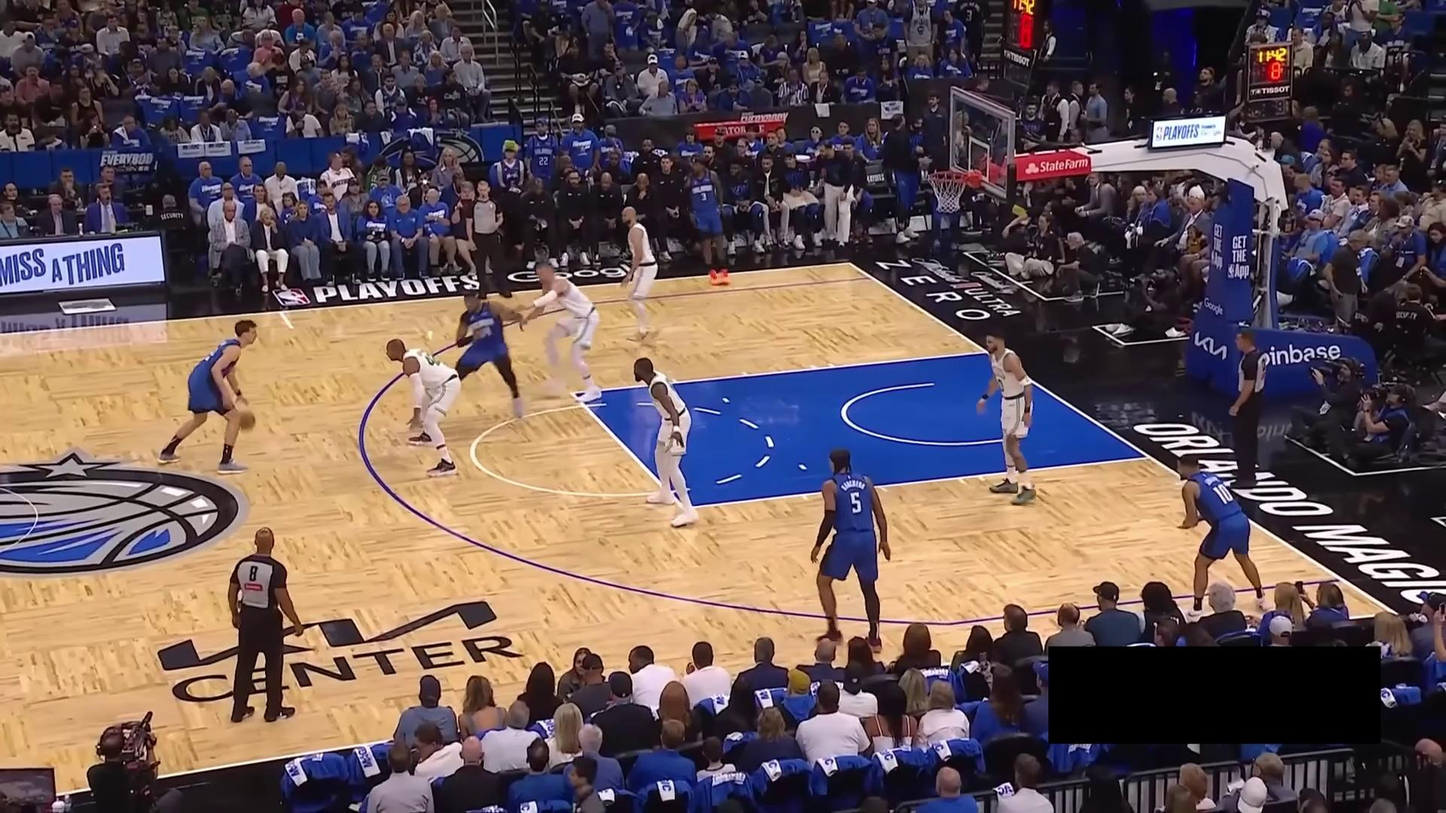ball: (237, 410, 256, 431)
number: (1212, 484, 1233, 505), (850, 491, 862, 514), (425, 351, 440, 367), (700, 190, 708, 202)
player: (810, 445, 892, 656), (1176, 453, 1273, 620), (520, 261, 604, 404), (634, 356, 700, 528), (976, 329, 1038, 506), (386, 338, 461, 478), (455, 289, 527, 421), (679, 154, 731, 286), (618, 206, 660, 344)
player-in-possession: (157, 319, 257, 475)
referee: (227, 526, 304, 723), (1227, 327, 1268, 489), (465, 179, 514, 303)
rim: (928, 170, 968, 183)
